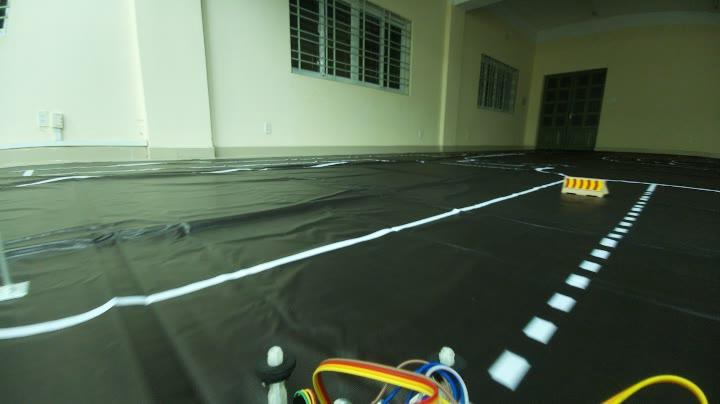roadblock: (560, 172, 608, 198)
